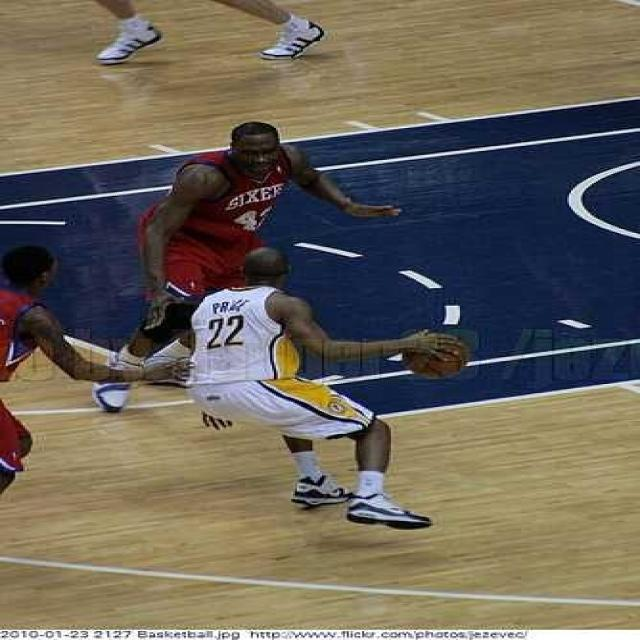Ball: (402, 334, 467, 378)
